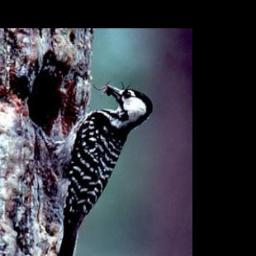Woodpecker: (43, 80, 155, 256)
